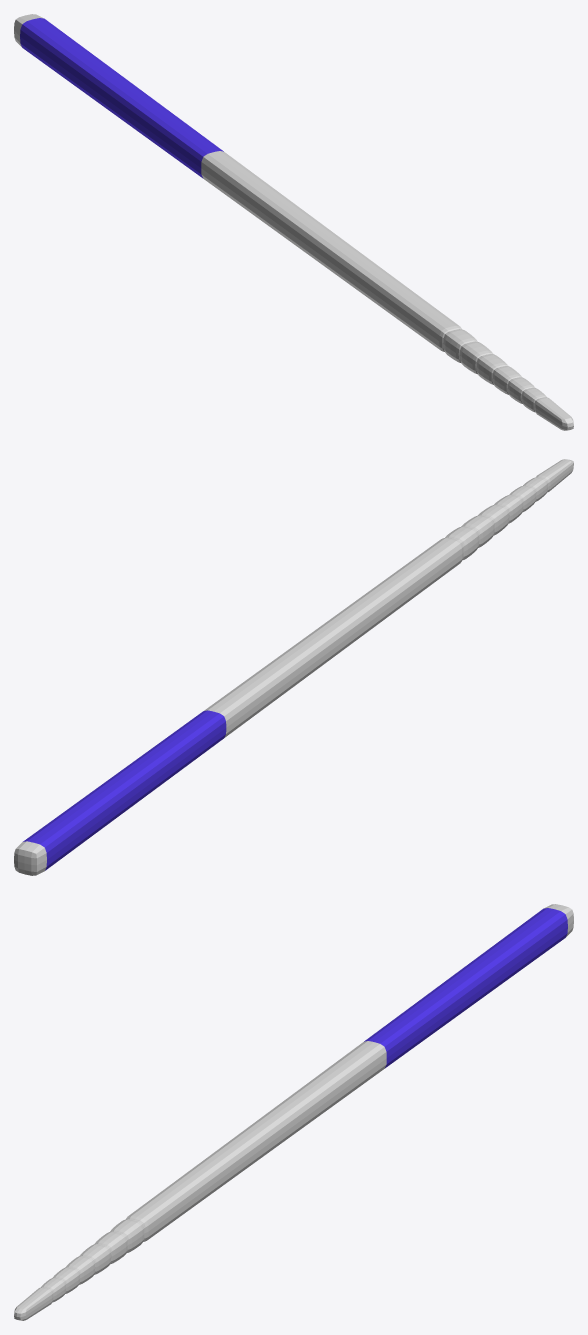
Rendered from ColoredChopstick.fbx.
3 views of the same model, one above another, from view 1: azimuth 30°, elevation 25°; view 2: azimuth 150°, elevation 25°; view 3: azimuth 330°, elevation 25° (orthographic).
Visible parts, largest first — view 1: Chopstick Blue; view 2: Chopstick Blue; view 3: Chopstick Blue.
Part boxes in pixels (<box>): Chopstick Blue: <box>14,14,573,430</box>; Chopstick Blue: <box>14,459,573,875</box>; Chopstick Blue: <box>14,904,573,1320</box>.
Bounding box in the file's own units: 0.00647 × 0.00647 × 0.2278.
